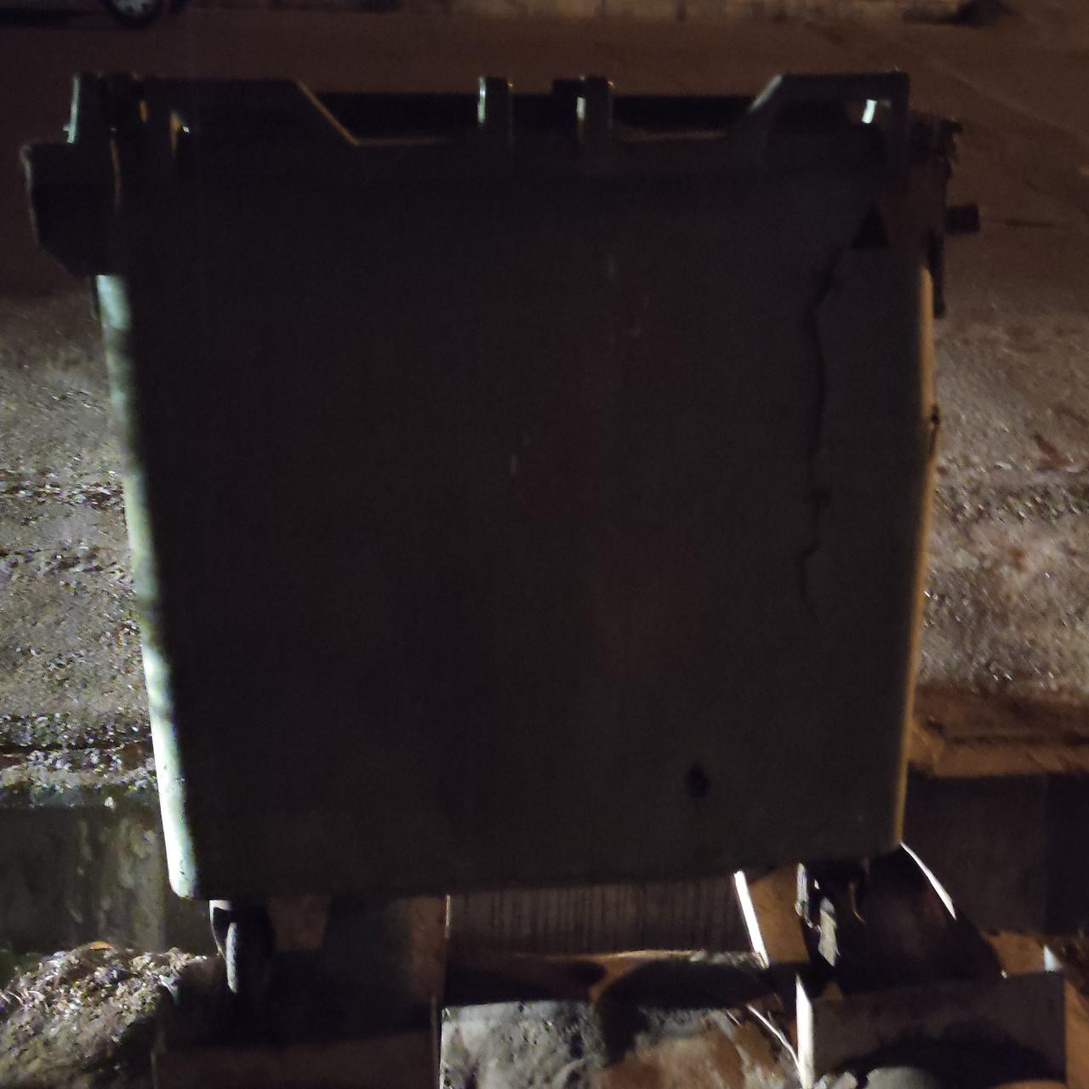bin_empty: (26, 73, 945, 898)
